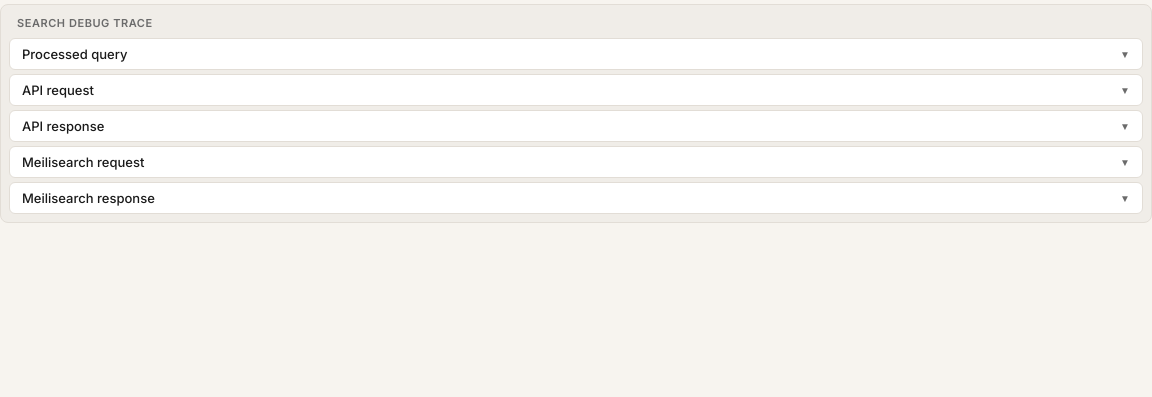
Test: SearchDebugPanel — independent section collapsibility › two sections can be open simultaneously
Click the button with test id "search-debug-processed-query-toggle": click(75, 54) top-left (10, 38), bottom-right (1142, 68)
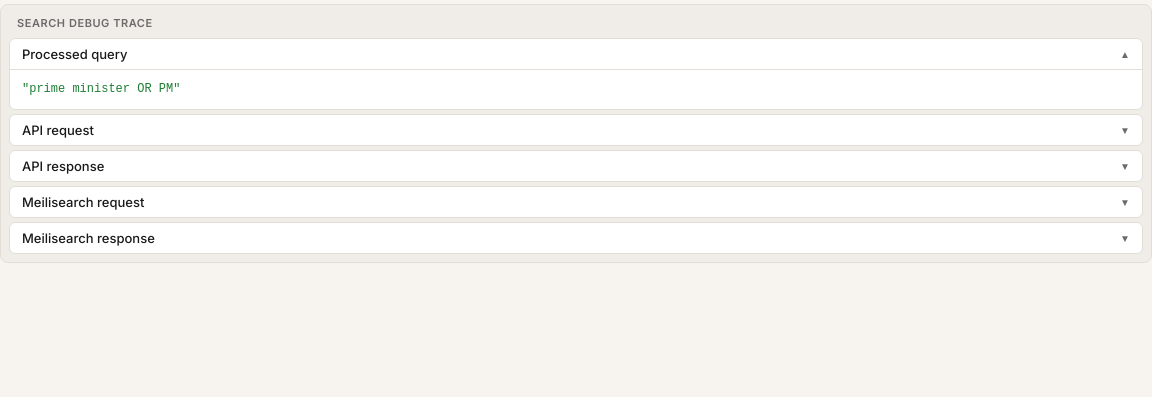
Click the button with test id "search-debug-api-request-toggle": click(58, 130) top-left (10, 115), bottom-right (1142, 145)
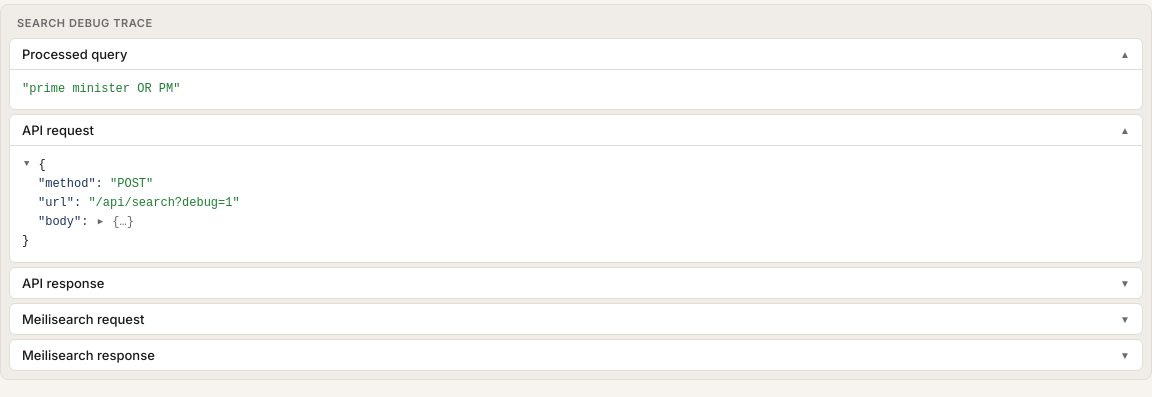
Check: the element with test id "search-debug-processed-query-body" is shown, box top-left (10, 68), bottom-right (1142, 109)
Check: the element with test id "search-debug-api-request-body" is shown, box top-left (10, 145), bottom-right (1142, 262)
